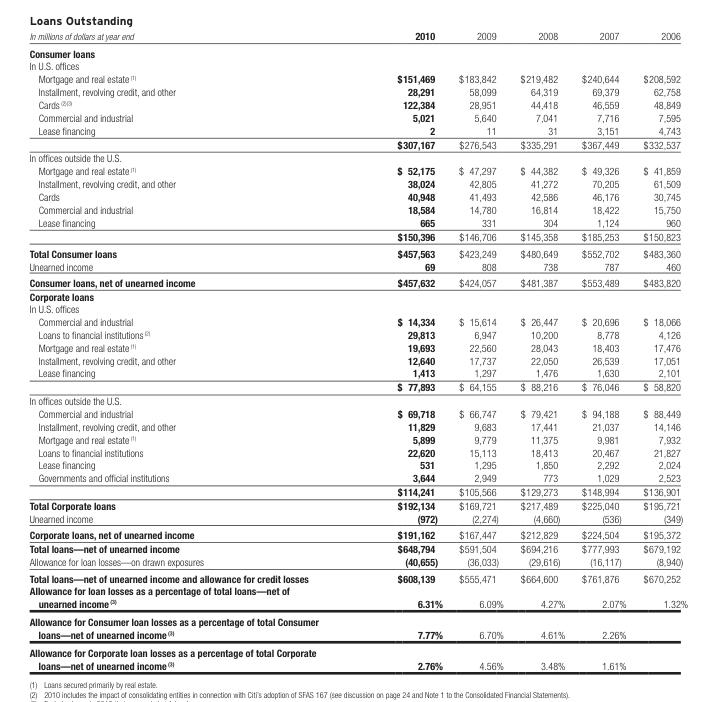table: (28, 29, 687, 670)
table column: (28, 29, 352, 670), (352, 29, 450, 670), (572, 29, 634, 670), (450, 29, 511, 670), (511, 29, 572, 670), (634, 29, 687, 670)
table column header: (28, 29, 687, 44)
table projected row header: (28, 44, 687, 59), (28, 612, 687, 627), (28, 643, 687, 658), (28, 288, 687, 302), (28, 150, 687, 163), (28, 393, 687, 406), (28, 59, 687, 71), (28, 302, 687, 314), (28, 584, 687, 596)
table row: (28, 228, 687, 244), (28, 596, 687, 612), (28, 627, 687, 643), (28, 29, 687, 44), (28, 44, 687, 59), (28, 244, 687, 259), (28, 273, 687, 288), (28, 511, 687, 526), (28, 526, 687, 541), (28, 554, 687, 569), (28, 569, 687, 584), (28, 612, 687, 627), (28, 643, 687, 658), (28, 136, 687, 150), (28, 259, 687, 273), (28, 288, 687, 302), (28, 379, 687, 393), (28, 484, 687, 498), (28, 71, 687, 84), (28, 84, 687, 97), (28, 97, 687, 110), (28, 110, 687, 123), (28, 123, 687, 136), (28, 150, 687, 163), (28, 163, 687, 176), (28, 176, 687, 189), (28, 189, 687, 202), (28, 202, 687, 215), (28, 215, 687, 228), (28, 314, 687, 327), (28, 327, 687, 340), (28, 340, 687, 353), (28, 353, 687, 366), (28, 366, 687, 379), (28, 393, 687, 406), (28, 406, 687, 419), (28, 419, 687, 432), (28, 432, 687, 445), (28, 445, 687, 458), (28, 458, 687, 471), (28, 471, 687, 484), (28, 498, 687, 511), (28, 541, 687, 554), (28, 59, 687, 71), (28, 302, 687, 314), (28, 584, 687, 596), (28, 658, 687, 670)
